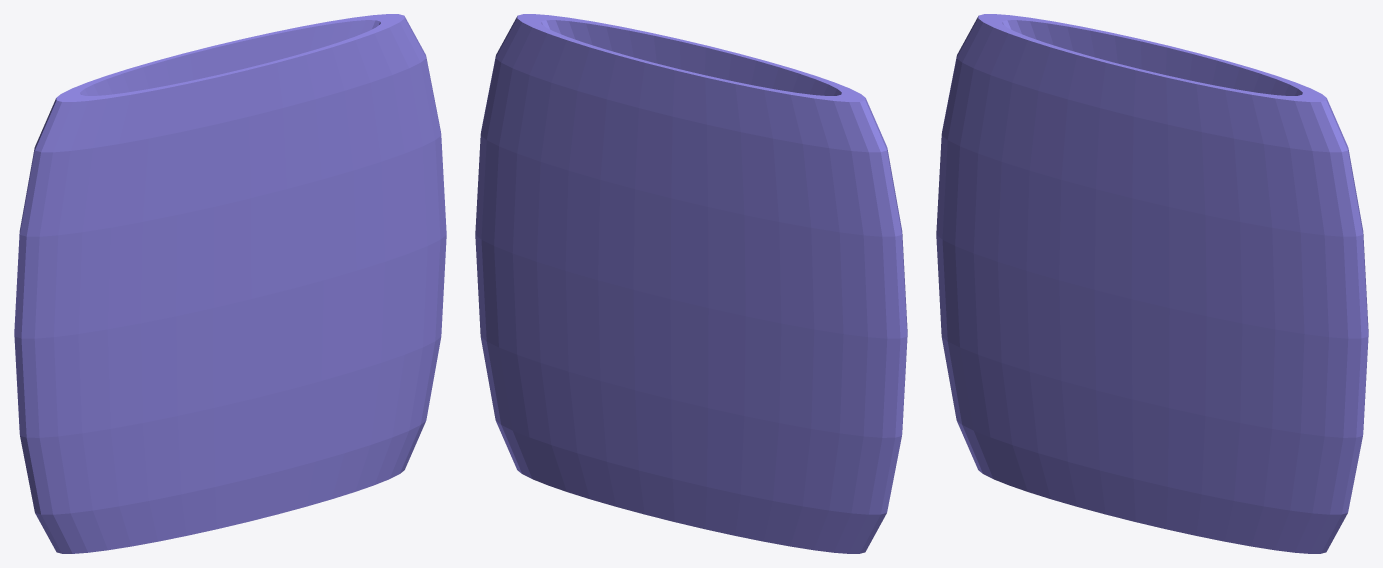
File: percentage_ring.glb
3 renders of one model, left to right at view 1: azimuth 30°, elevation 25°; view 2: azimuth 150°, elevation 25°; view 3: azimuth 330°, elevation 25°, orthographic.
Parts seen in each view (by area): view 1: Torus; view 2: Torus; view 3: Torus.
Part boxes in pixels (box(x1,y1,x2,y2)): Torus: box(14, 14, 446, 553); Torus: box(475, 14, 907, 553); Torus: box(936, 14, 1368, 553).
Size of the model in its own units: 0.12 by 0.12 by 0.02.
